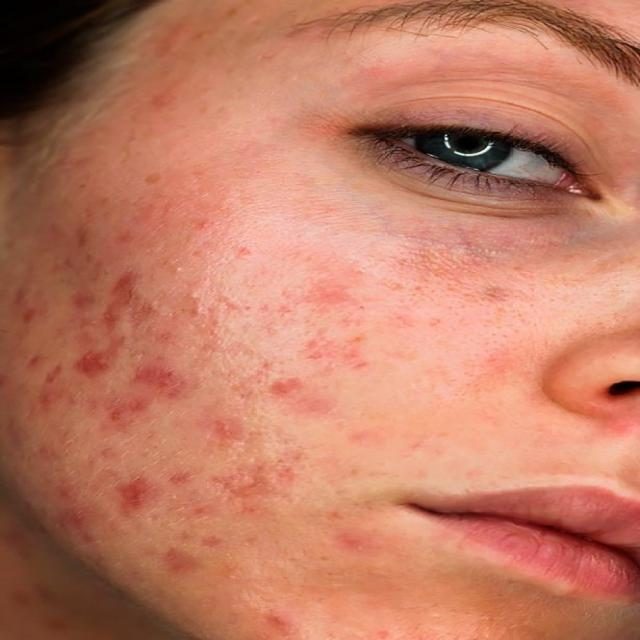Acne: (13, 272, 204, 432), (42, 164, 257, 268), (241, 276, 379, 424), (44, 457, 100, 552), (136, 542, 232, 592), (168, 466, 264, 507), (188, 412, 253, 461), (164, 16, 217, 70), (119, 478, 169, 532), (122, 89, 186, 130), (326, 514, 368, 548), (269, 606, 309, 632)
